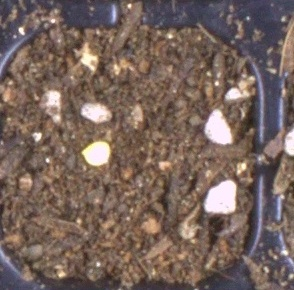chilli seed: (80, 141, 111, 166)
